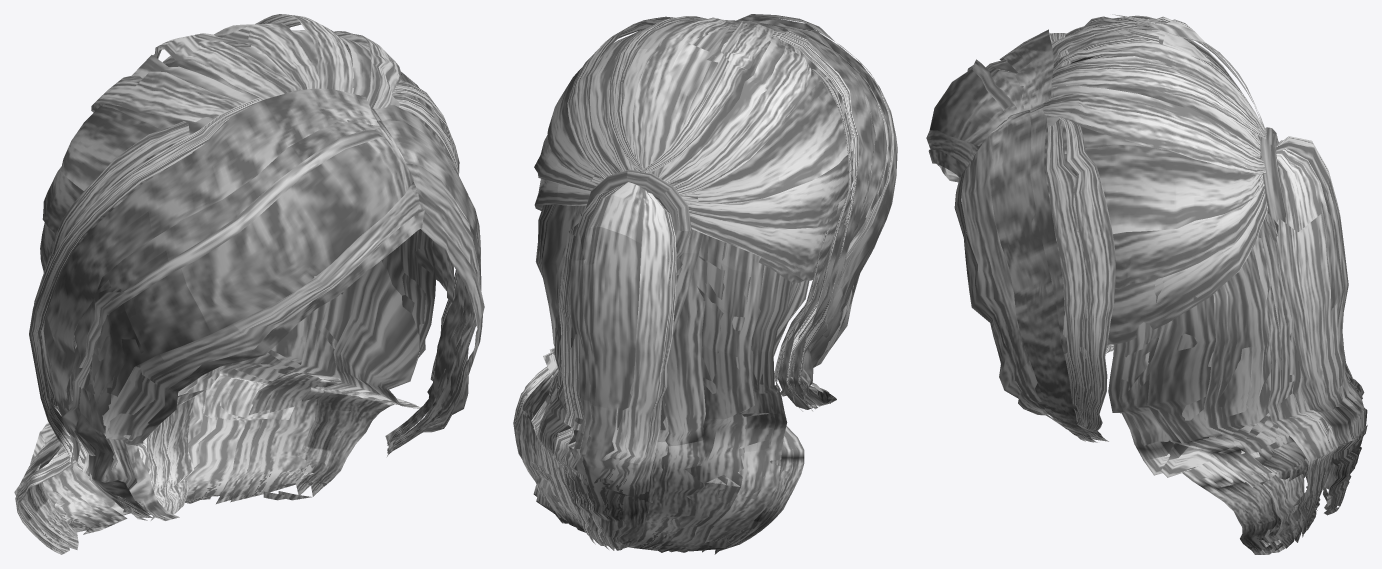
Rendered from daz_hair_french_lazy_roll.glb.
3 views of the same model, side by side, from view 1: azimuth 30°, elevation 25°; view 2: azimuth 150°, elevation 25°; view 3: azimuth 270°, elevation 25° (orthographic). The views are drawn at different scales.
Parts seen in each view (by area): view 1: daz_hair_french_lazy_roll; view 2: daz_hair_french_lazy_roll; view 3: daz_hair_french_lazy_roll.
Boxes of the visible parts, <box> form: daz_hair_french_lazy_roll: <box>14,14,484,554</box>; daz_hair_french_lazy_roll: <box>513,14,897,554</box>; daz_hair_french_lazy_roll: <box>926,14,1367,554</box>.
Size of the model in its own units: 0.1852 by 0.268 by 0.2216.
Materials: 1 (1 with a texture image).
